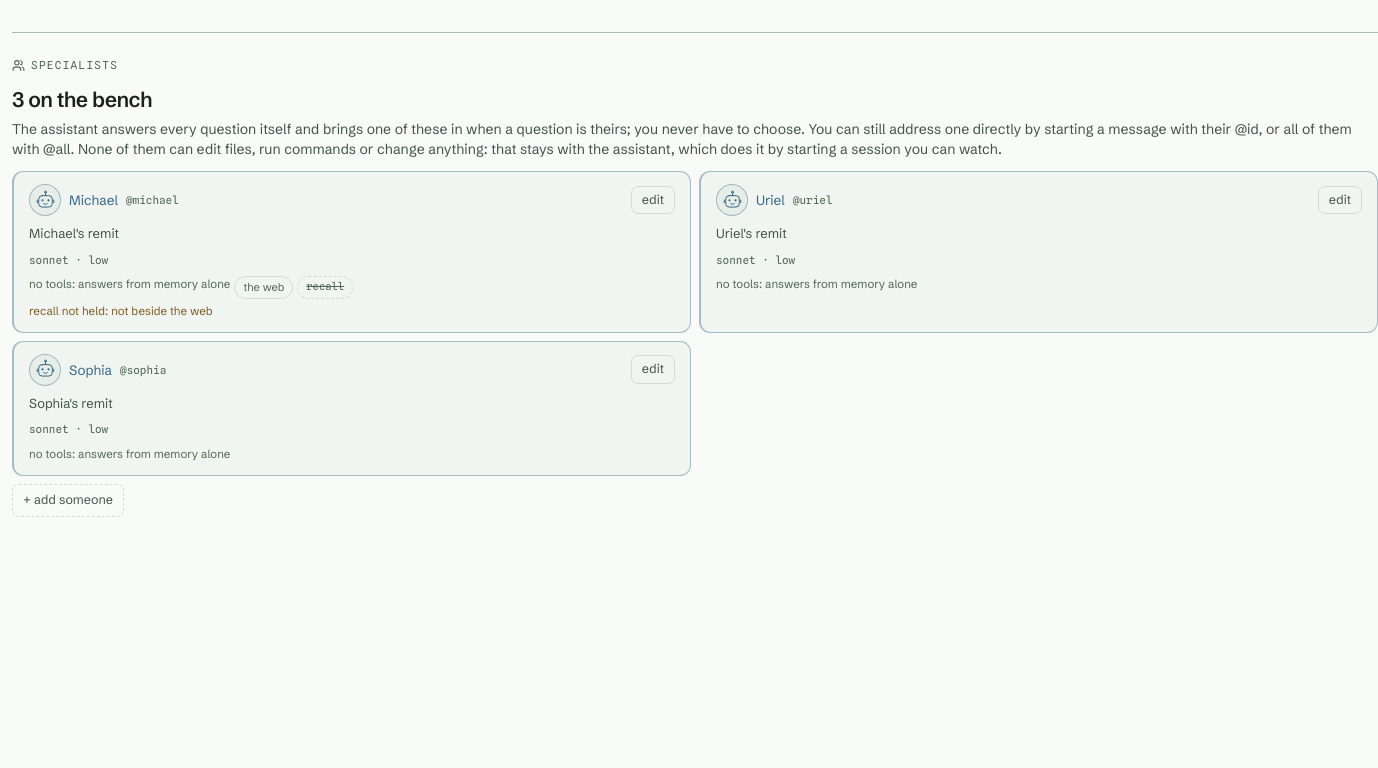
Test: CouncilPanel (C-27) › refuses an id already on the bench
Click the button "+ add someone" at (68, 500), box [12,484,124,517]
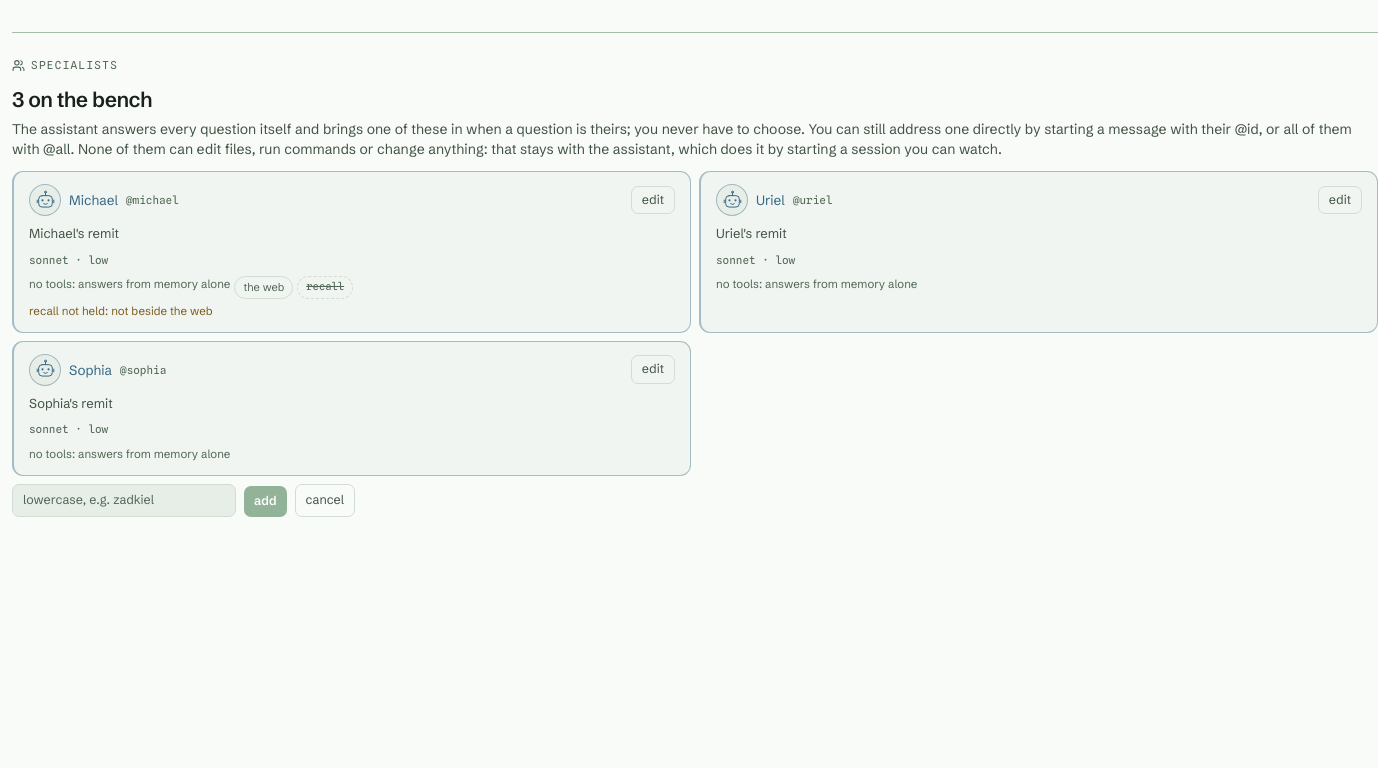
Type "uriel" into the field named "their id" at (124, 500), box [12,484,236,517]
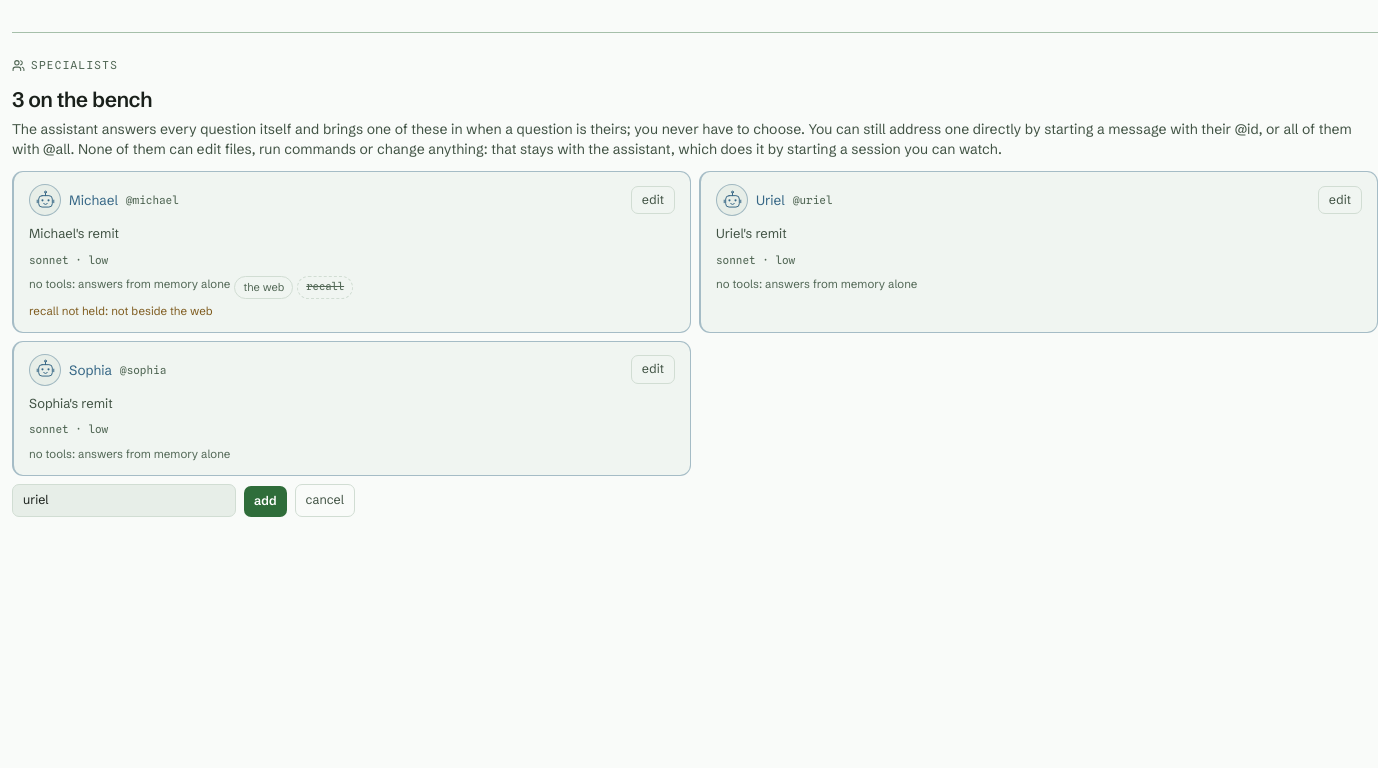
Click the button "add" at (265, 501), box [244,486,287,517]
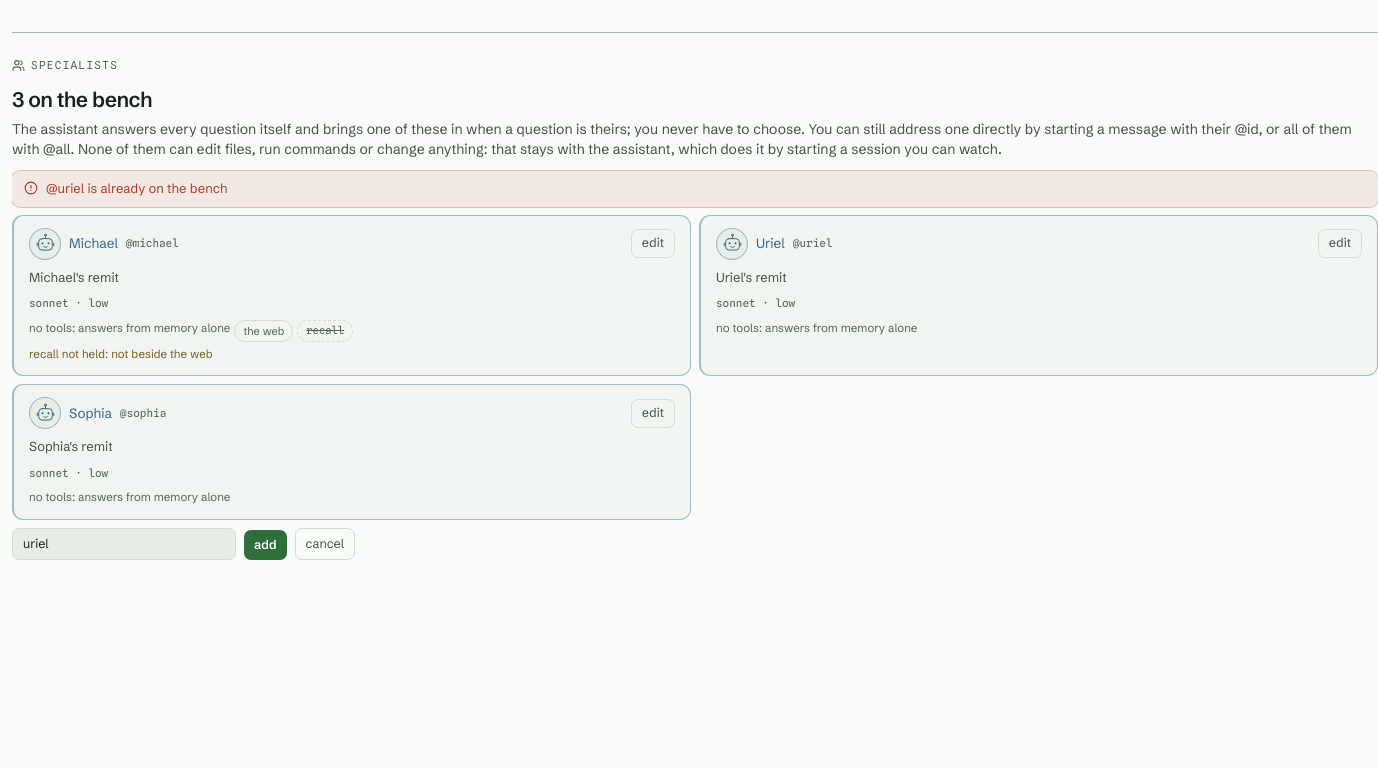
Now the text "@uriel is already on the bench" is shown, box [46,180,227,196]
